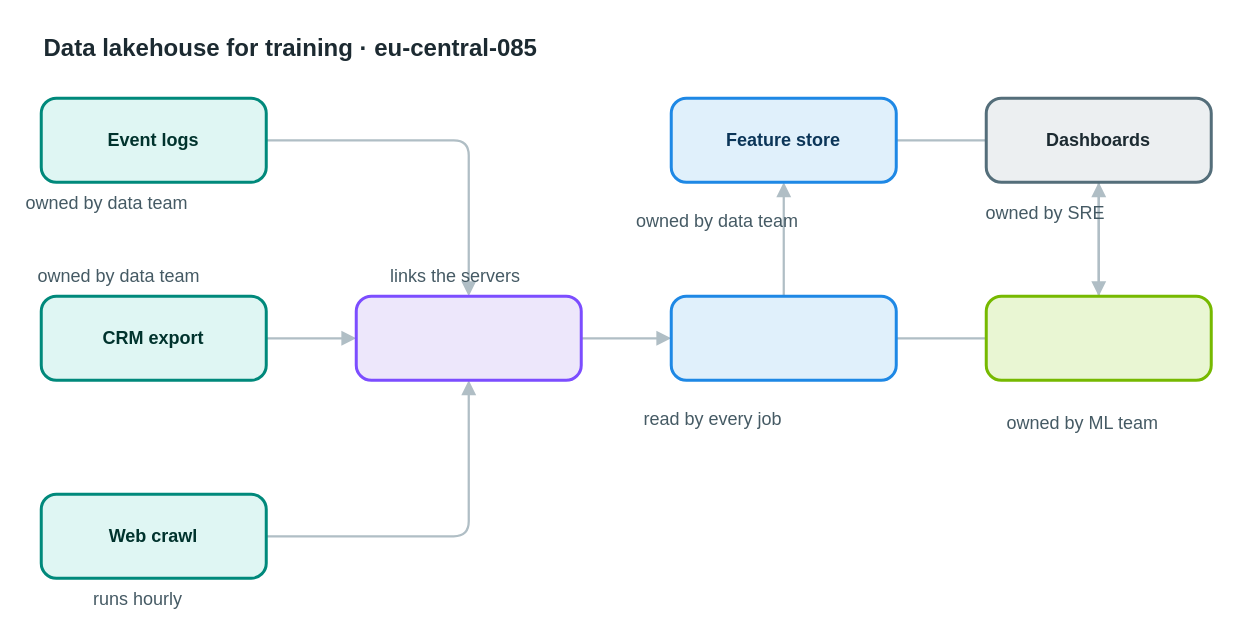
Some shapes in this 1238 by 636 pixel diagram are drawn without their labels. Each missing label, with the centre of its shape:
Lakehouse: (783,337)
Stream bus: (468,337)
Training jobs: (1098,337)
